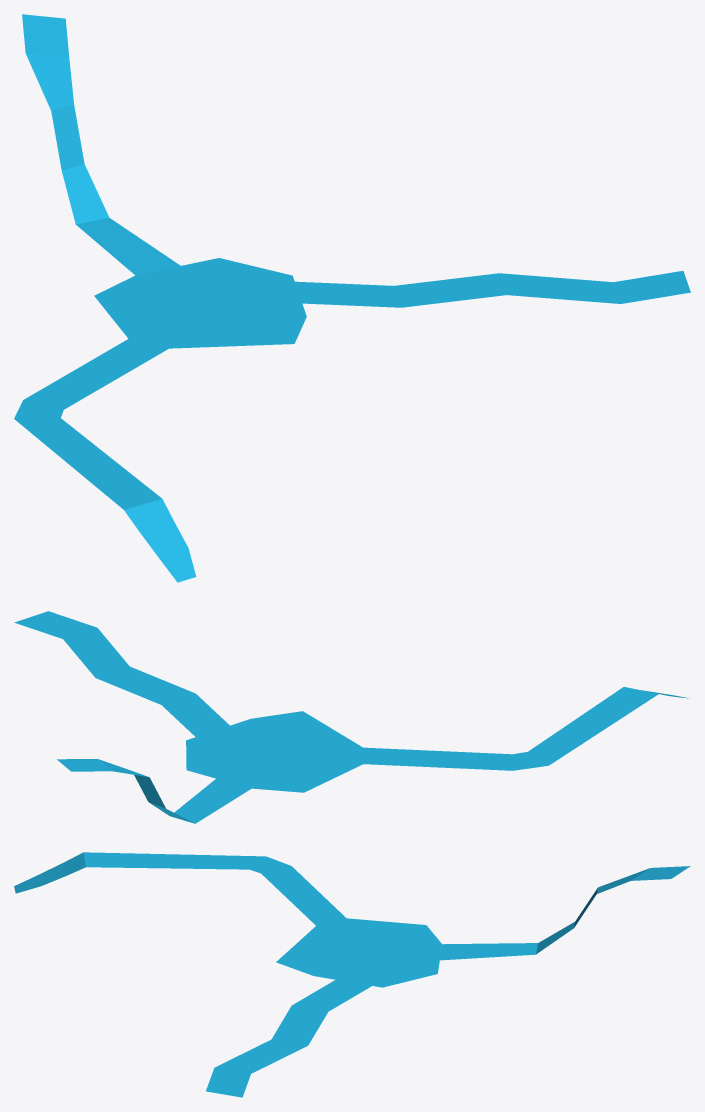
File: river.fbx
3 views of the same model, one above another, from view 1: azimuth 30°, elevation 25°; view 2: azimuth 150°, elevation 25°; view 3: azimuth 270°, elevation 25° (orthographic). The views are drawn at different scales.
Visible parts, largest first — view 1: Plane.002; view 2: Plane.002; view 3: Plane.002.
Boxes of the visible parts, box(x1,y1,x2,y2) form: Plane.002: box(14, 14, 690, 582); Plane.002: box(14, 611, 688, 823); Plane.002: box(14, 852, 690, 1097).
Size of the model in its own units: 23689 by 5768 by 27632.
